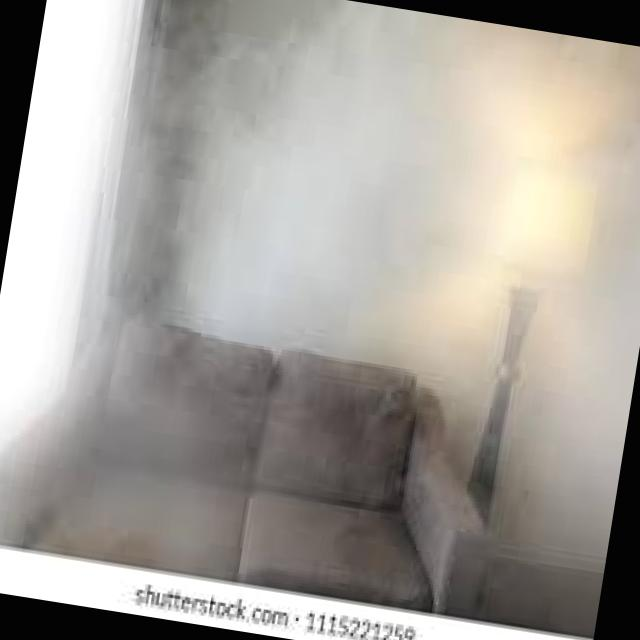smoke: (0, 0, 305, 529)
